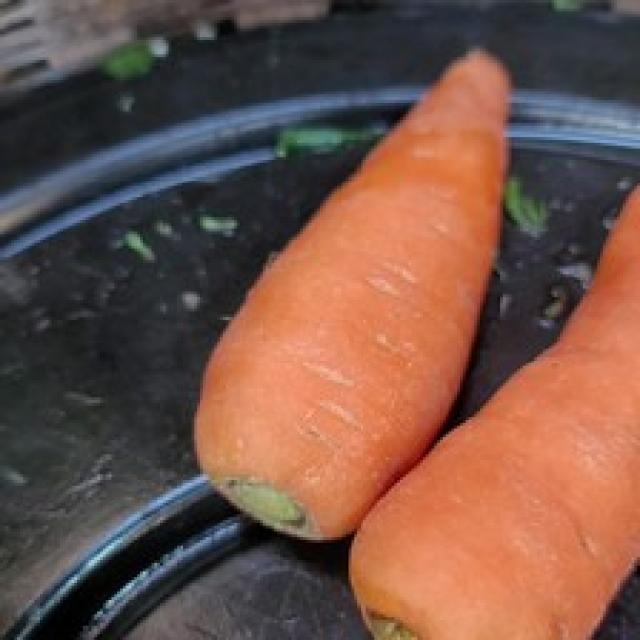Fresh_Carrot: (177, 30, 521, 530), (373, 168, 640, 640)
